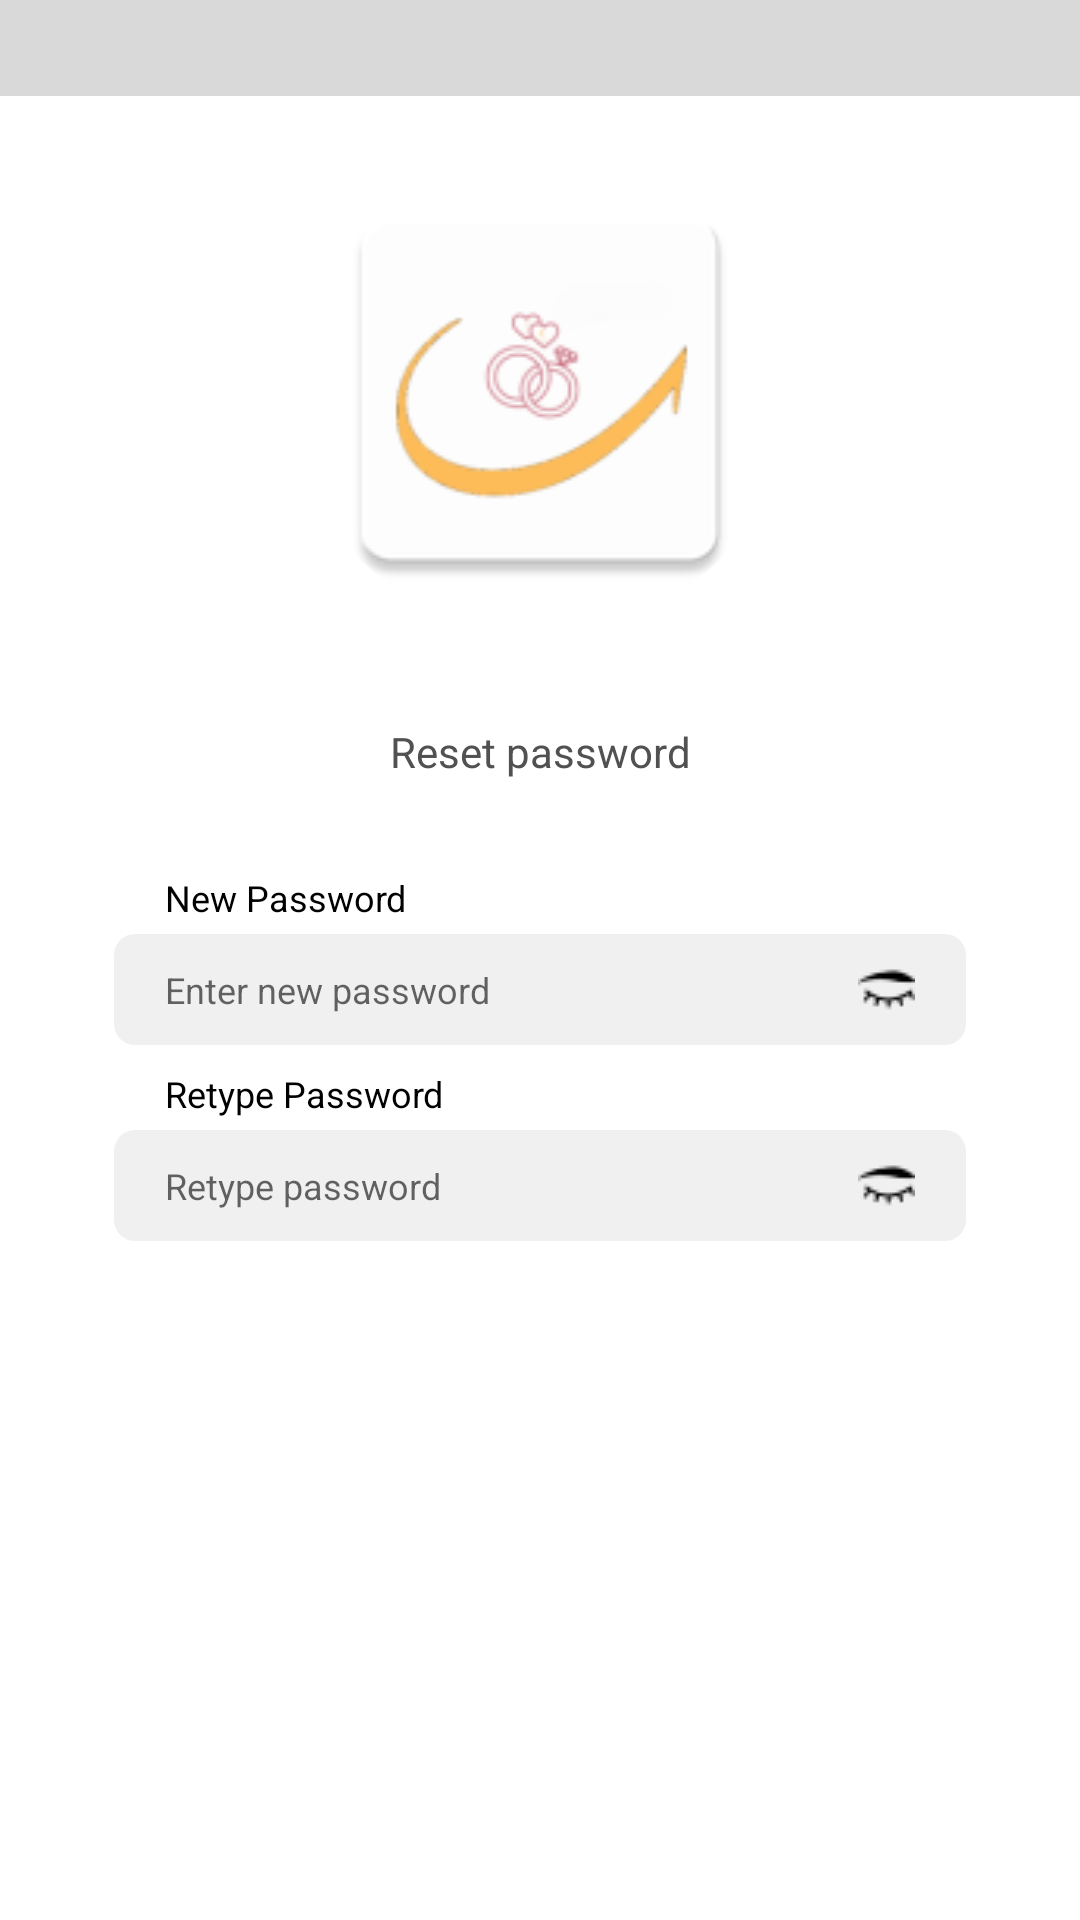

Named icons in this screenshot (1080×1920) and their centers, (x,y):
eye: (886,989), (886,1185)
